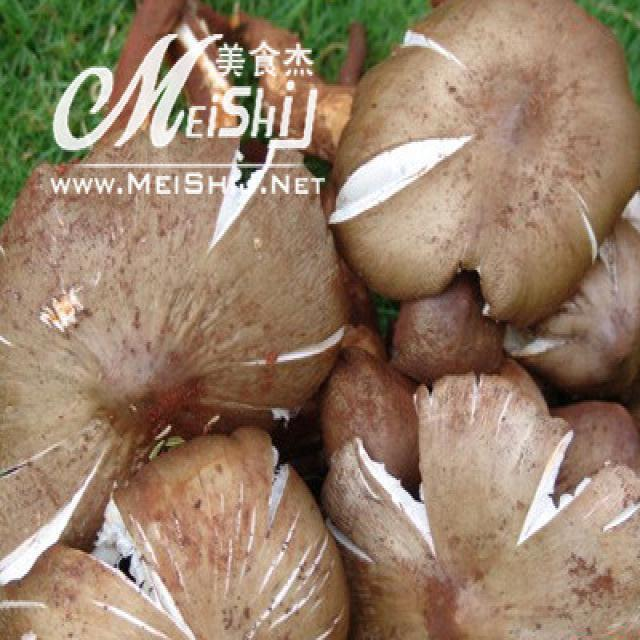Collybia albuminosa: (1, 123, 348, 585), (330, 3, 640, 326), (319, 366, 640, 640), (3, 426, 350, 640)
